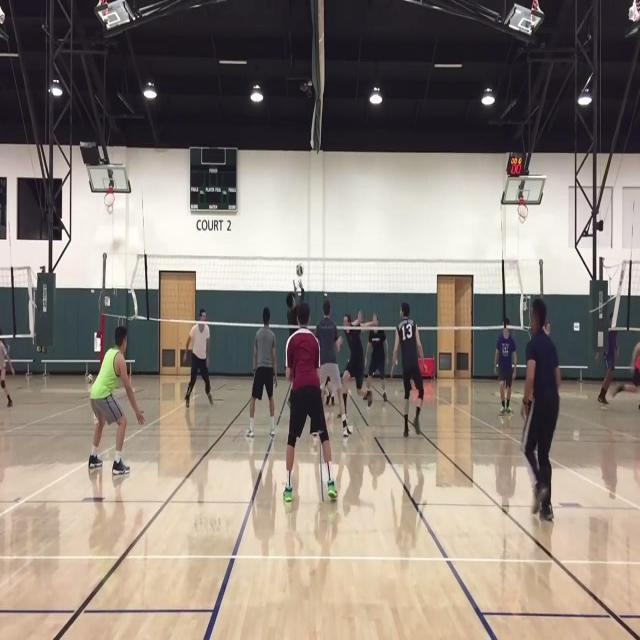volleyball: (296, 264, 304, 276)
